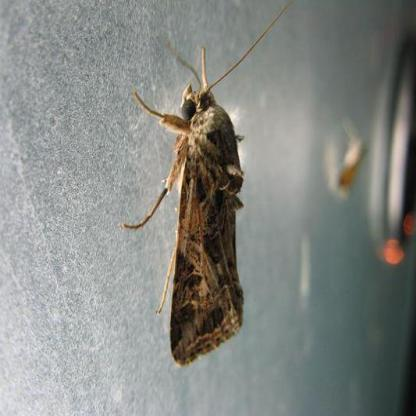armyworm: (132, 11, 289, 371)
